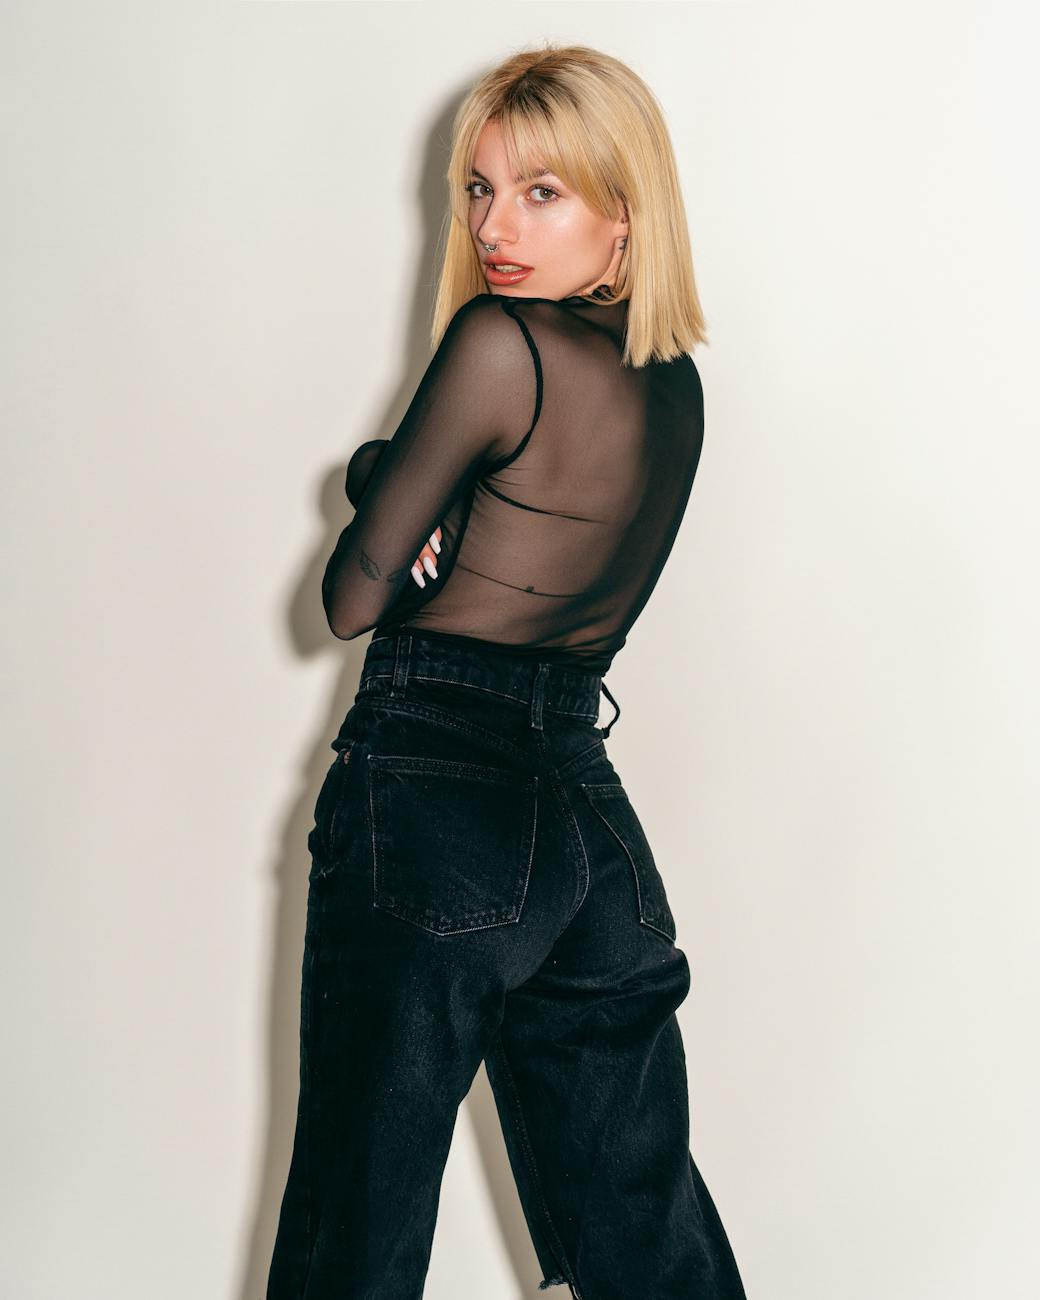transparent_top: (404, 291, 690, 644)
